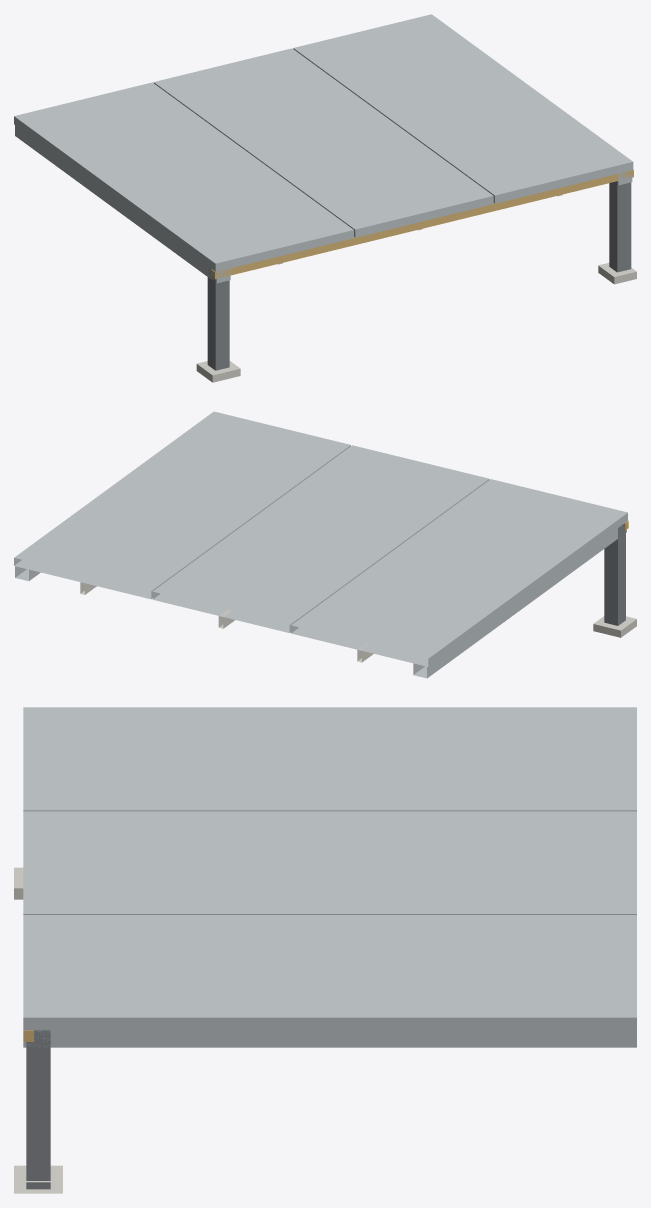
File: lunar-0-1.glb
3 renders of one model, top to bottom at view 1: azimuth 30°, elevation 25°; view 2: azimuth 150°, elevation 25°; view 3: azimuth 270°, elevation 25°, orthographic. The views are drawn at different scales.
Visible parts, largest first — view 1: lunar-0-1; view 2: lunar-0-1; view 3: lunar-0-1.
Part boxes in pixels (box(x1,y1,x2,y2)): lunar-0-1: box(14, 14, 636, 382); lunar-0-1: box(14, 411, 636, 678); lunar-0-1: box(14, 707, 636, 1193).
Bounding box in the file's own units: 48.6 × 12.63 × 40.6.
